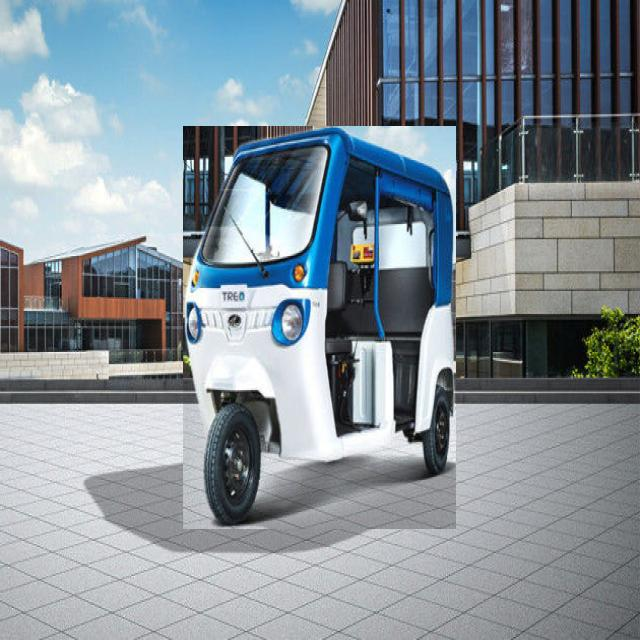autorickshaw: (183, 127, 456, 529)
